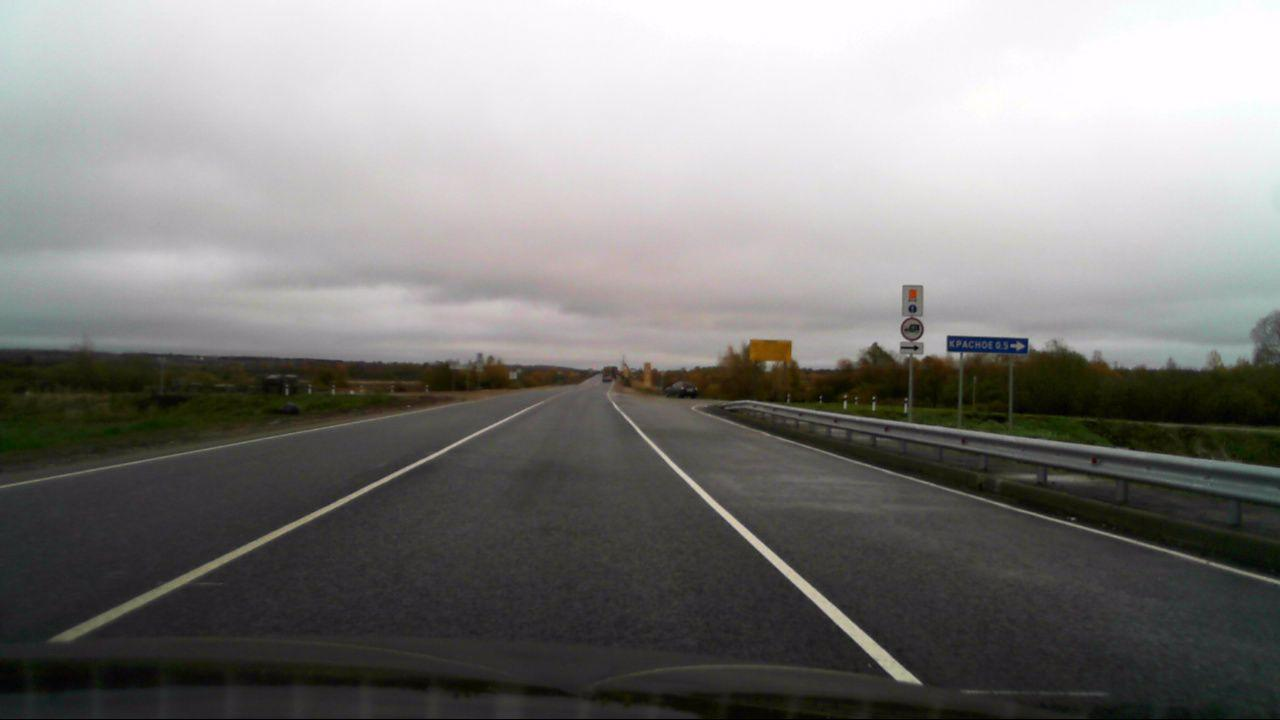3_4: (900, 317, 924, 340)
4_8_1: (901, 284, 926, 316)
6_10_1: (947, 335, 1029, 354)
8_3_1: (899, 341, 925, 353)
